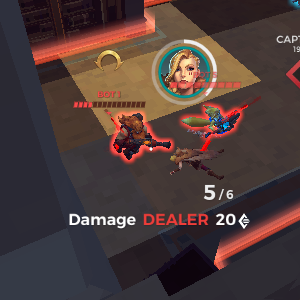model: (111, 112, 158, 171), (195, 102, 235, 146)
